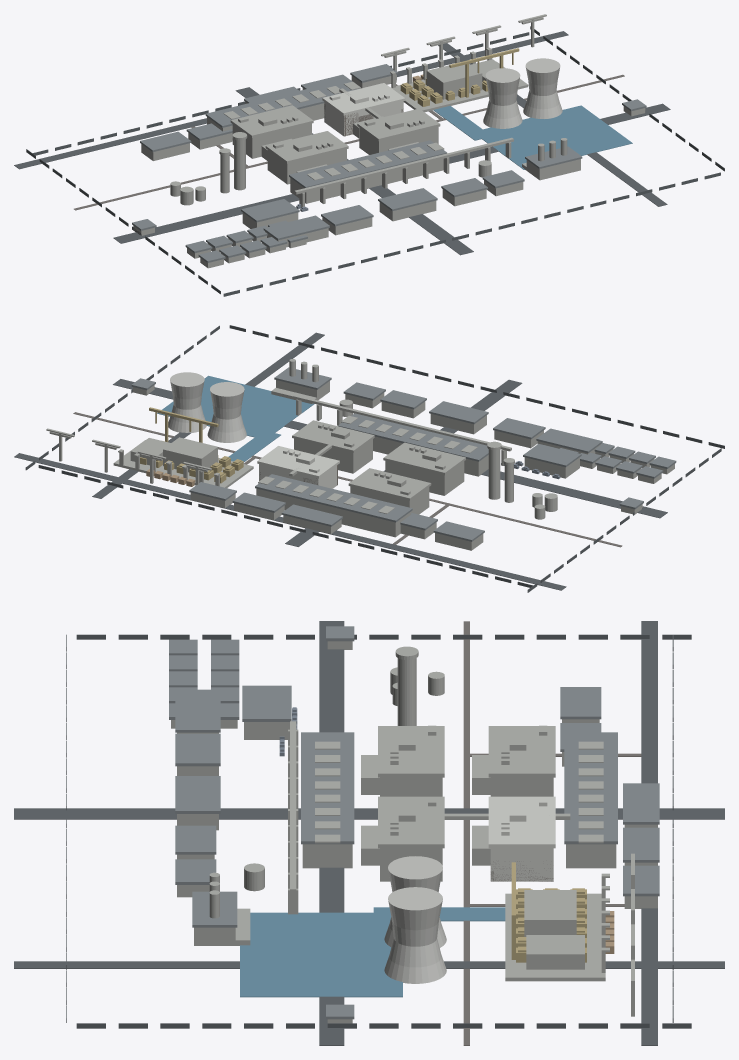
Rendered from chernobyl-supercomplex.glb.
3 renders of one model, top to bottom at view 1: azimuth 30°, elevation 25°; view 2: azimuth 150°, elevation 25°; view 3: azimuth 270°, elevation 25°, orthographic. The views are drawn at different scales.
Parts seen in each view (by area): view 1: Body, Reactor4; view 2: Body, Reactor4; view 3: Body, Reactor4.
Part boxes in pixels (x1,y1,x2,y2): Body: (14, 14, 724, 296); Reactor4: (322, 83, 405, 136); Body: (14, 325, 724, 592); Reactor4: (257, 446, 339, 488); Body: (14, 621, 724, 1045); Reactor4: (488, 796, 555, 881).
Size of the model in its own units: 480 by 44 by 340.
